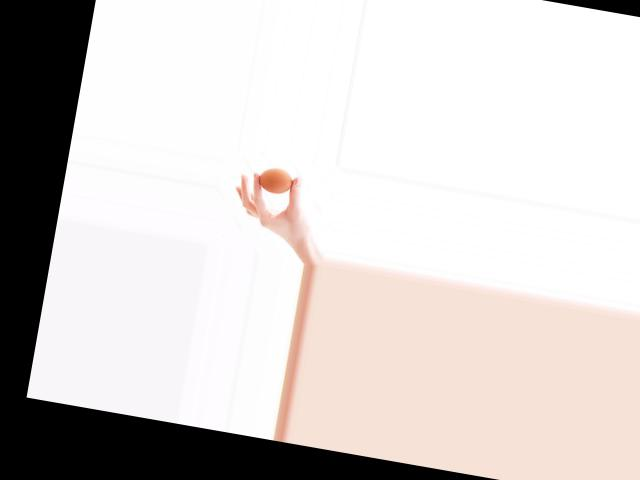egg: (257, 165, 294, 195)
